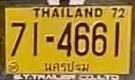1: (32, 22, 38, 56), (114, 21, 119, 56)
4: (56, 21, 72, 56)
6: (91, 22, 106, 56), (74, 22, 89, 55)
7: (10, 22, 25, 56)
NPT: (41, 60, 91, 75)
